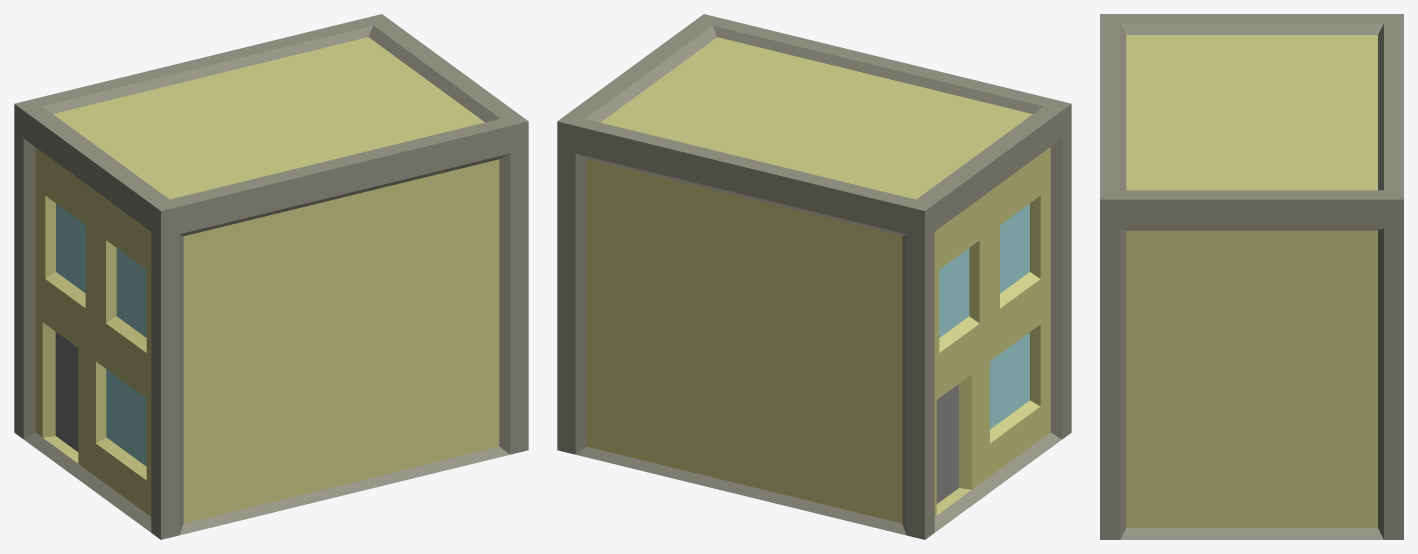
The model's file is tiny_building.fbx.
3 renders of one model, left to right at view 1: azimuth 30°, elevation 25°; view 2: azimuth 150°, elevation 25°; view 3: azimuth 270°, elevation 25°, orthographic. The views are drawn at different scales.
Parts seen in each view (by area): view 1: tiny_building; view 2: tiny_building; view 3: tiny_building.
Boxes of the visible parts, x1,y1,x2,y2 form: tiny_building: (14, 14, 528, 539); tiny_building: (557, 14, 1071, 539); tiny_building: (1100, 14, 1403, 539).
Size of the model in its own units: 10.48 by 8.96 by 7.24.
